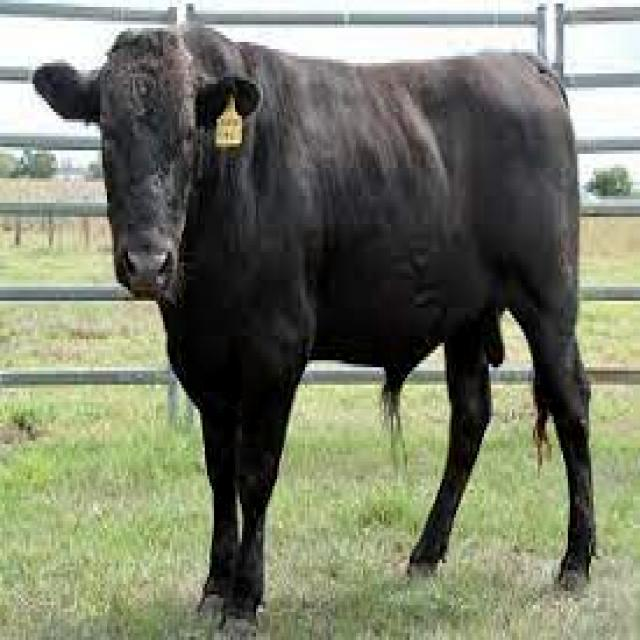COW: (35, 26, 594, 616)
